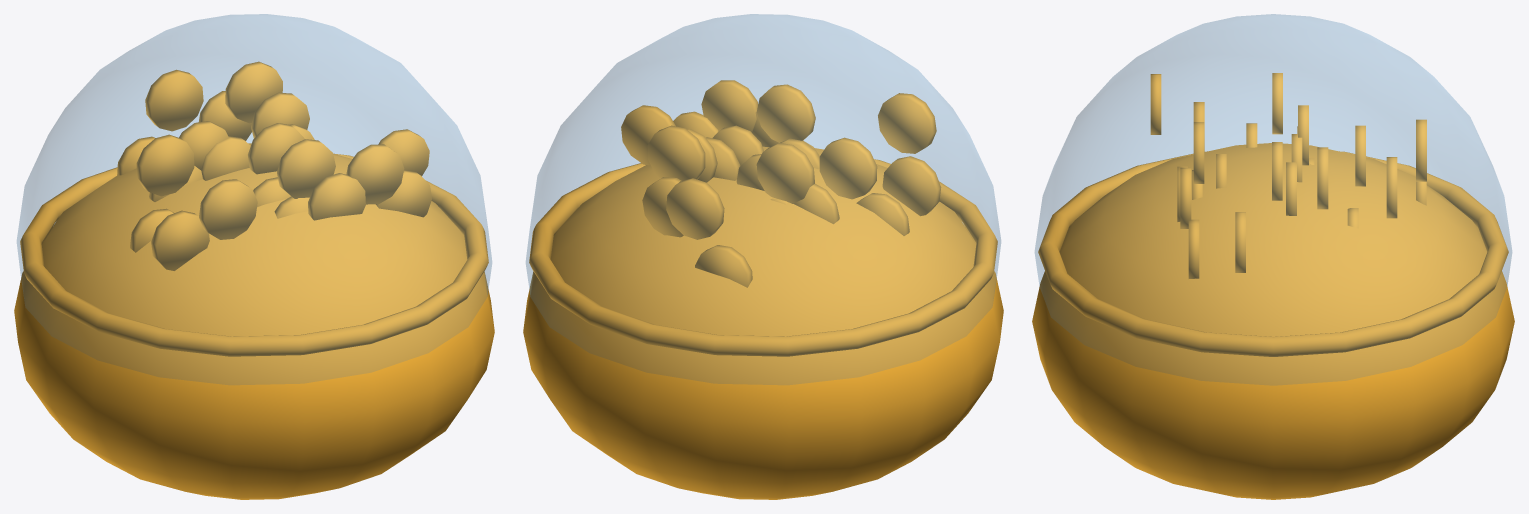
File: SM_GoldenCapsule.fbx
The picture shows the model from 3 angles, left to right: view 1: azimuth 30°, elevation 25°; view 2: azimuth 150°, elevation 25°; view 3: azimuth 270°, elevation 25°; orthographic projection.
Parts seen in each view (by area): view 1: SM_GoldenCapsule; view 2: SM_GoldenCapsule; view 3: SM_GoldenCapsule.
Boxes of the visible parts, box(x1,y1,x2,y2) form: SM_GoldenCapsule: box(14, 14, 494, 499); SM_GoldenCapsule: box(523, 14, 1003, 499); SM_GoldenCapsule: box(1032, 14, 1514, 499).
Size of the model in its own units: 2.02 by 2.02 by 2.
